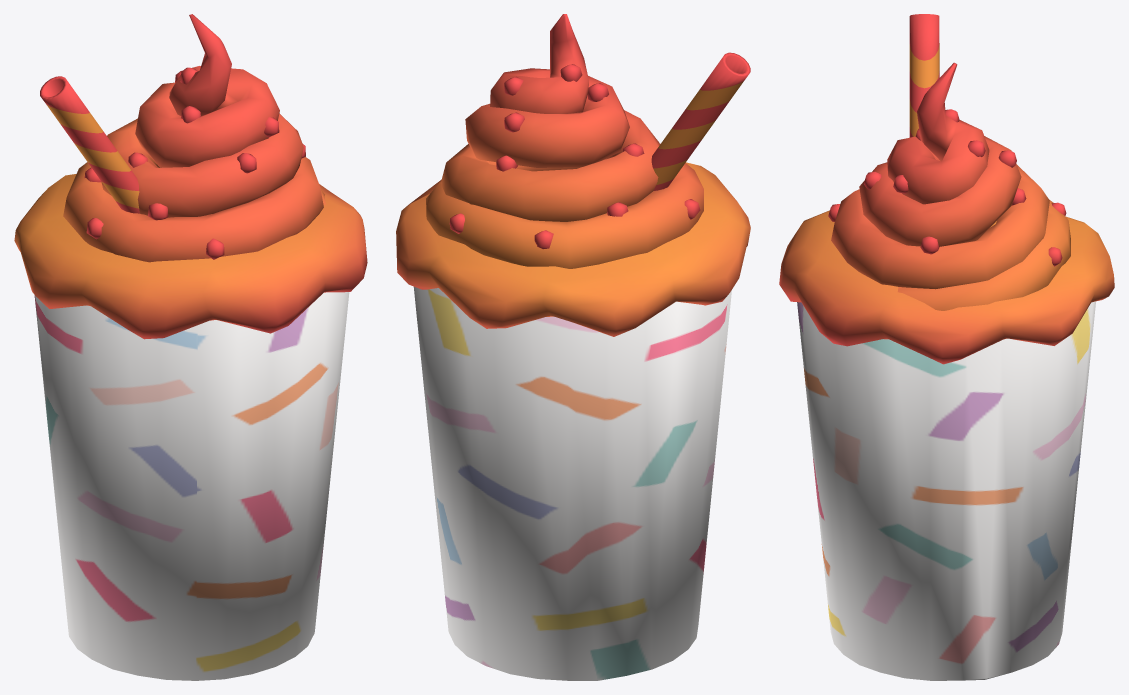
Rendered from Milkshake-3.fbx.
The picture shows the model from 3 angles, left to right: view 1: azimuth 30°, elevation 25°; view 2: azimuth 150°, elevation 25°; view 3: azimuth 270°, elevation 25°; orthographic projection. The views are drawn at different scales.
Parts seen in each view (by area): view 1: Milkshake-3; view 2: Milkshake-3; view 3: Milkshake-3.
Boxes of the visible parts, x1,y1,x2,y2 form: Milkshake-3: (14,14,367,680); Milkshake-3: (396,14,750,680); Milkshake-3: (779,14,1114,680).
Bounding box in the file's own units: 26.6 × 49.08 × 26.08.
